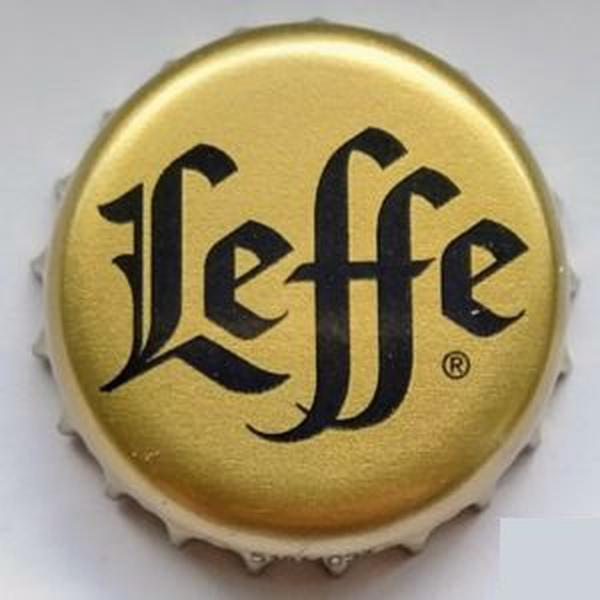leffe: (26, 15, 583, 582)
